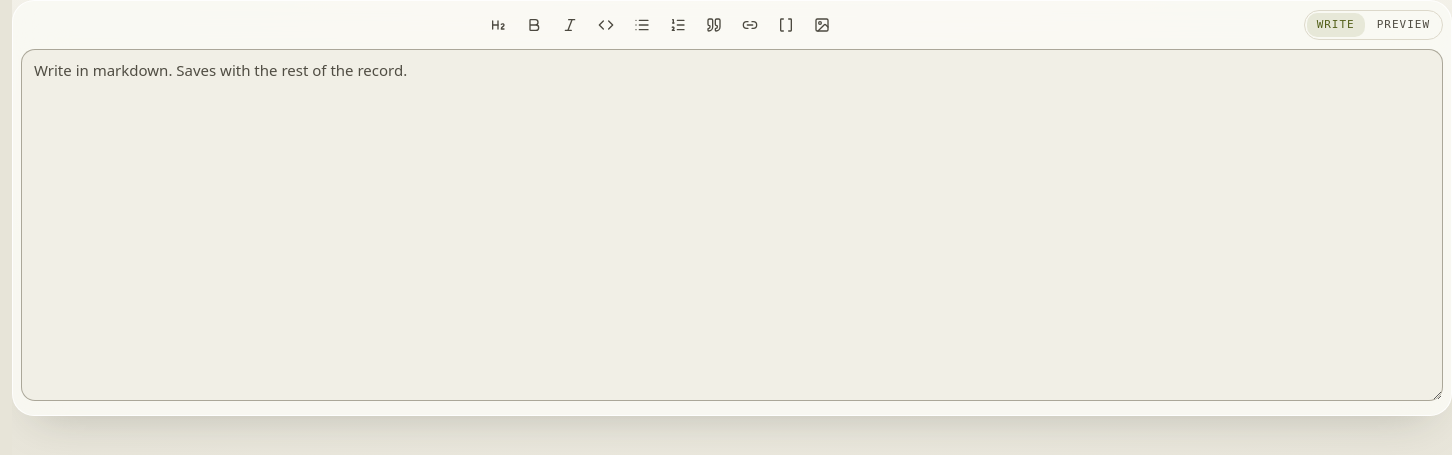
MarkdownEditor › searches records from [ [ and inserts the chosen link at the caret
The width and height of the screenshot is (1452, 455).
In the text box named "Markdown body": (732, 225) [21,49,1443,401], type "[ ["
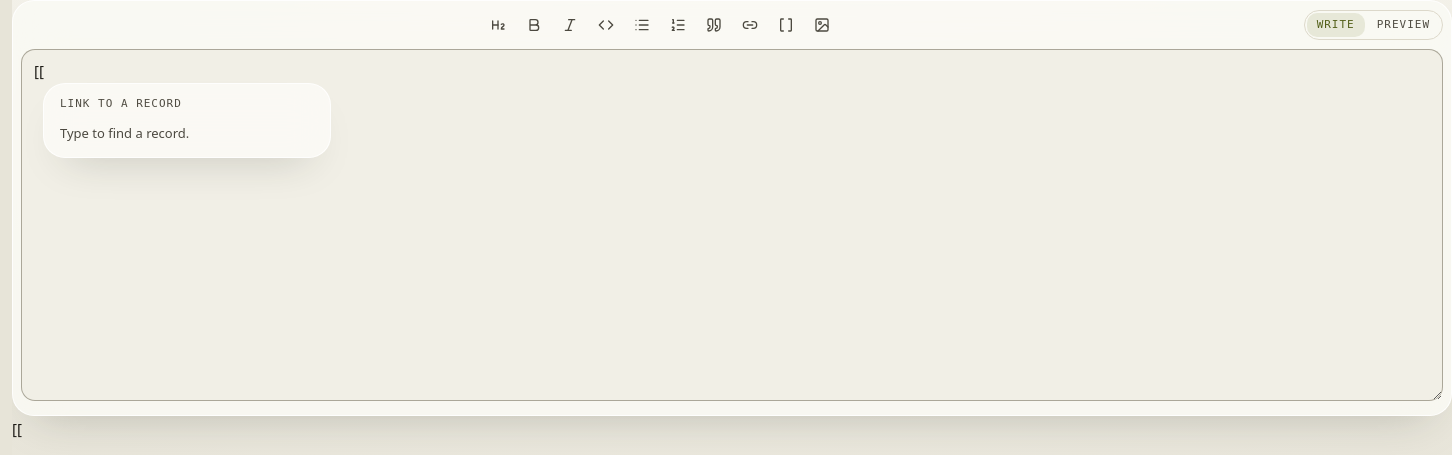
Result: the text "Type to find a record." is shown at [60,124,189,142]
Replace the text in the text box named "Markdown body" with "[ [pla": (732, 225) [21,49,1443,401]
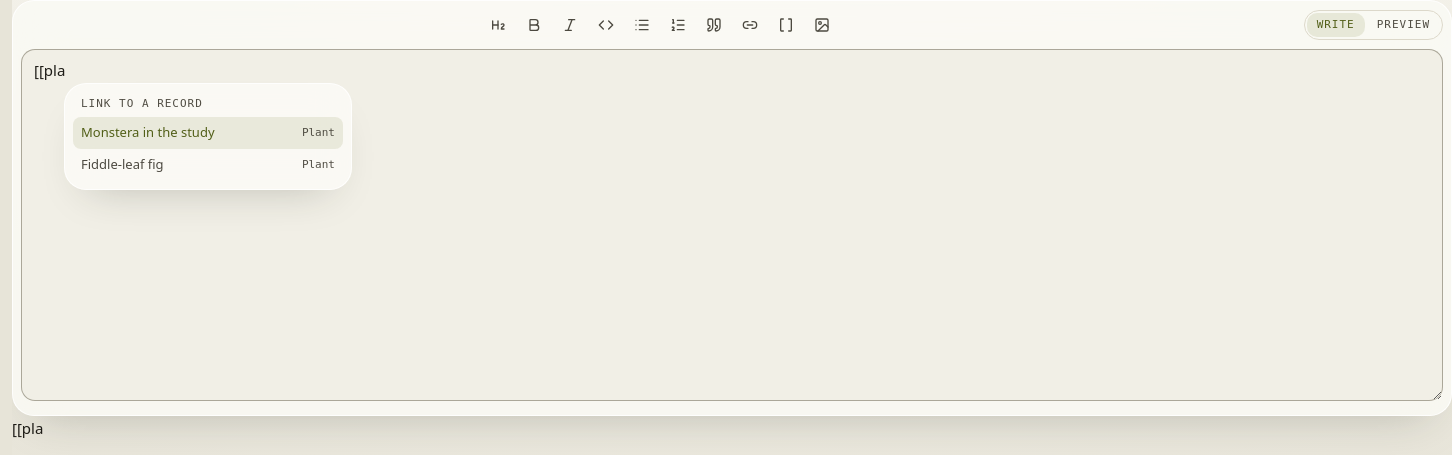
Result: the option "Monstera in the study Plant" is shown at [73,116,343,148]
Result: the option "Fiddle-leaf fig Plant" is shown at [81,155,335,173]
Press ArrowDown in the text box named "Markdown body"
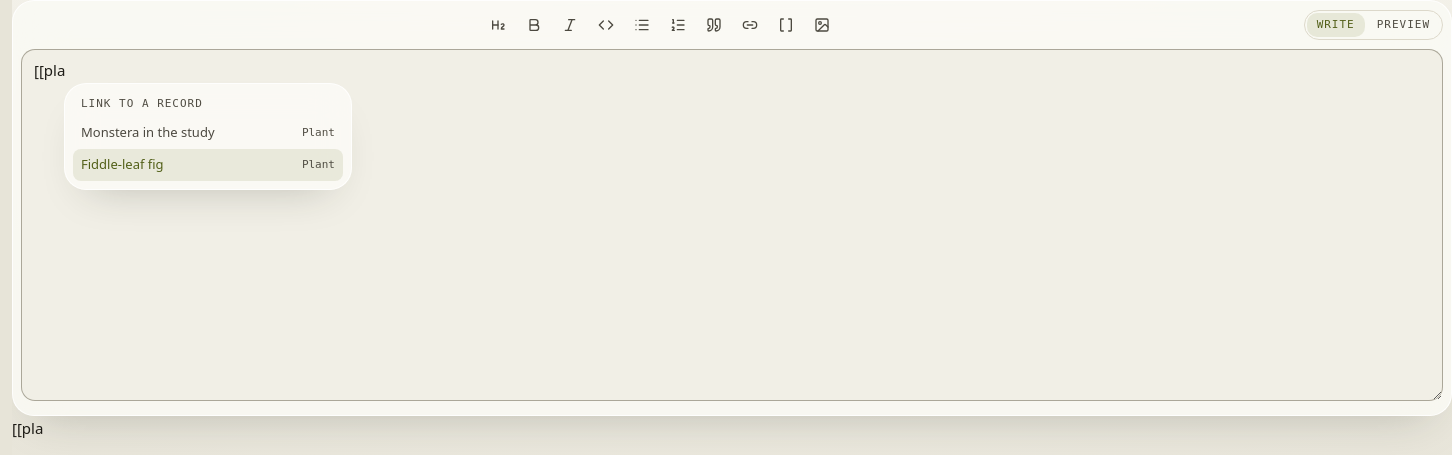
Press Enter in the text box named "Markdown body"
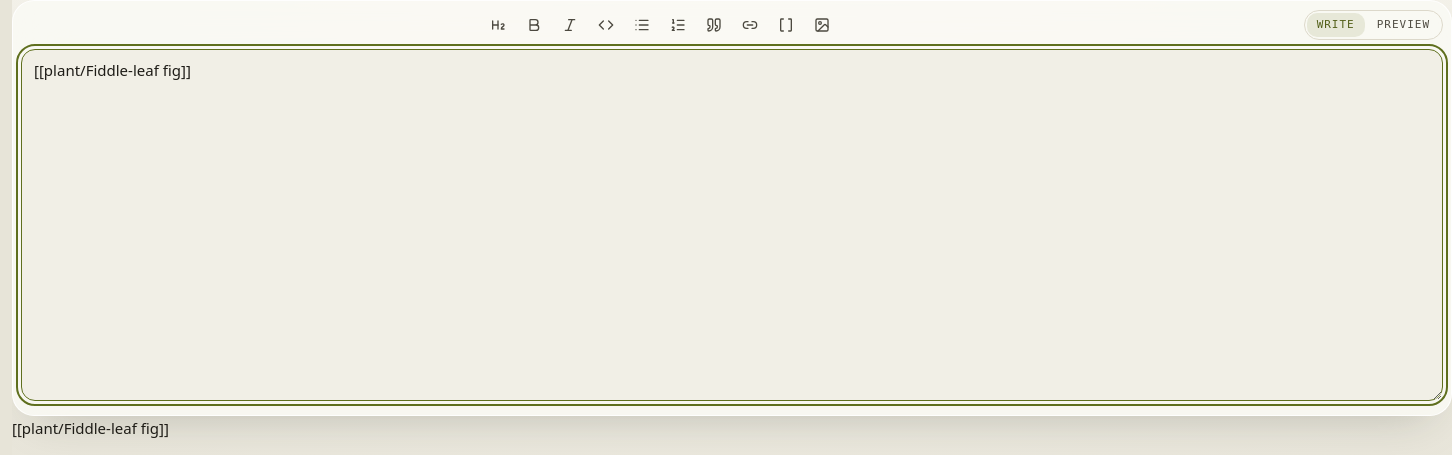
Result: the text box named "Markdown body" holds "[ [plant/Fiddle-leaf fig]]"
Result: the list "Records" is gone
